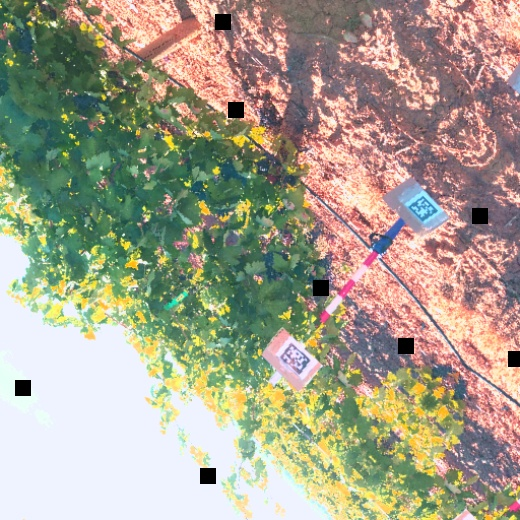QR: (277, 341, 313, 376), (407, 193, 439, 224)
